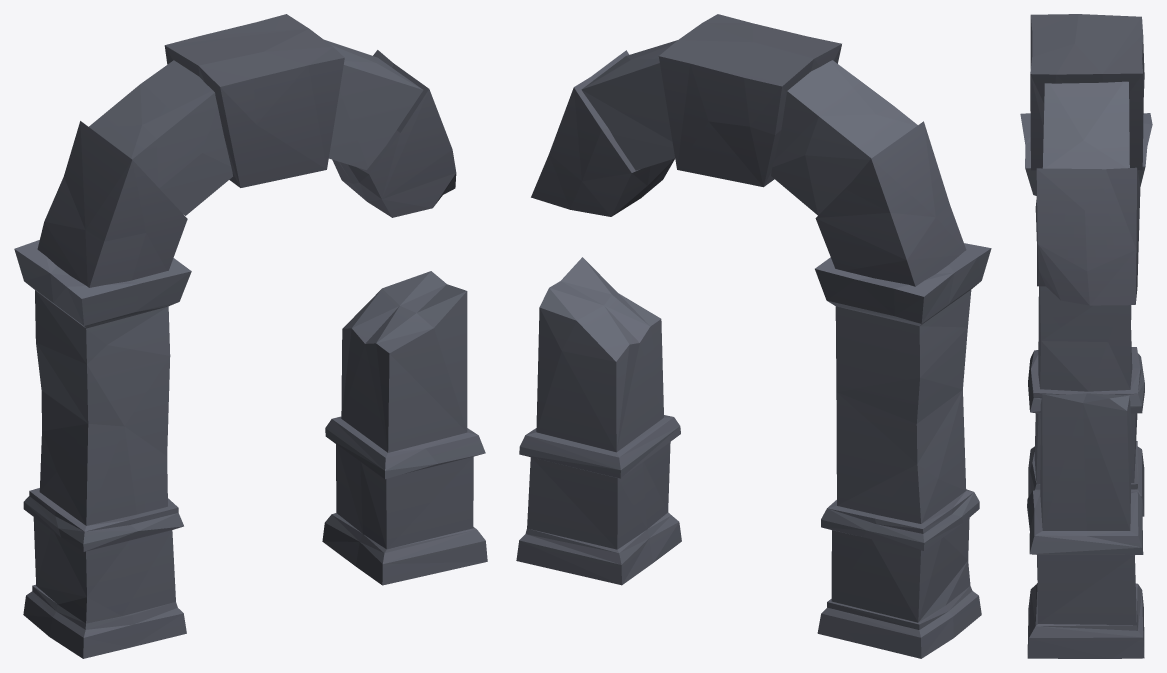
The model's file is Ruins_01.fbx.
3 views of the same model, side by side, from view 1: azimuth 30°, elevation 25°; view 2: azimuth 150°, elevation 25°; view 3: azimuth 270°, elevation 25° (orthographic). The views are drawn at different scales.
Visible parts, largest first — view 1: Ruins_01; view 2: Ruins_01; view 3: Ruins_01.
Boxes of the visible parts, x1,y1,x2,y2 form: Ruins_01: (14,14,487,658); Ruins_01: (516,14,991,658); Ruins_01: (1020,14,1152,658).
Bounding box in the file's own units: 1.95 × 2.46 × 0.5639.
